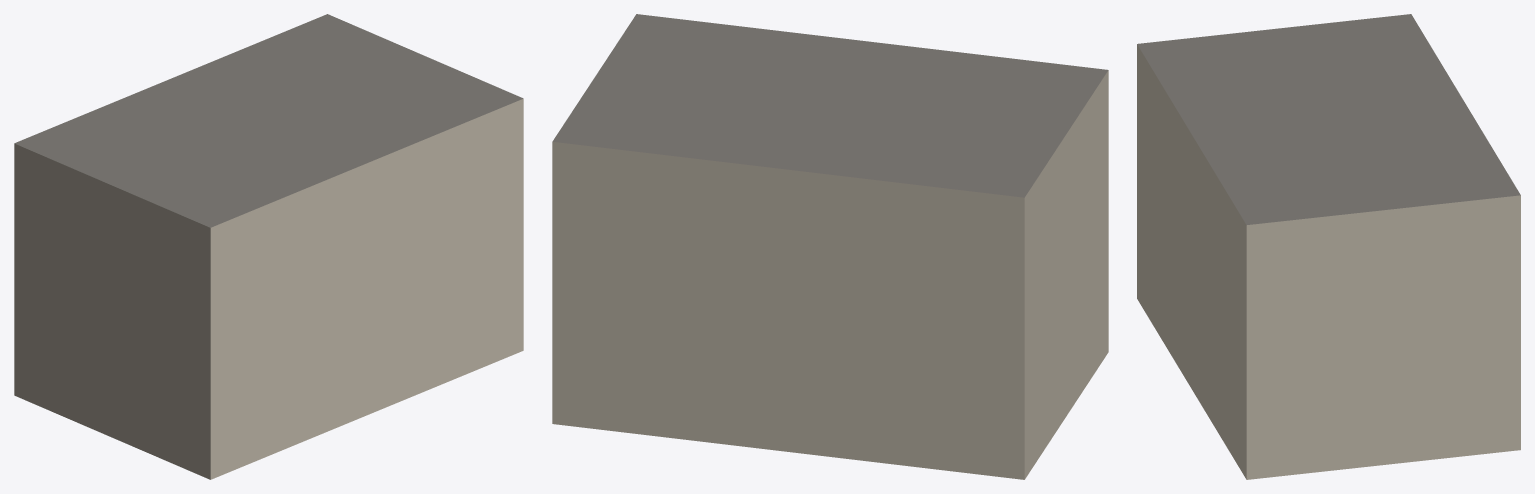
3 renders of one model, left to right at view 1: azimuth 30°, elevation 25°; view 2: azimuth 150°, elevation 25°; view 3: azimuth 270°, elevation 25°, orthographic. The views are drawn at different scales.
Visible parts, largest first — view 1: HP-w293416980; view 2: HP-w293416980; view 3: HP-w293416980.
Boxes of the visible parts, x1,y1,x2,y2 form: HP-w293416980: [14, 14, 523, 479]; HP-w293416980: [552, 14, 1108, 479]; HP-w293416980: [1137, 14, 1520, 479].
Bounding box in the file's own units: 32 × 18 × 24.58.
